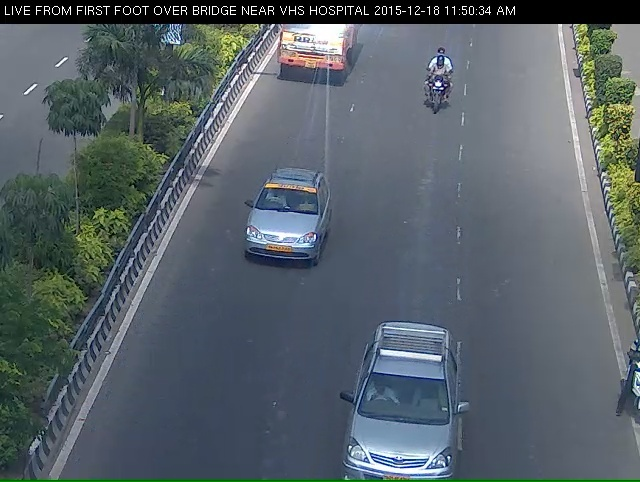Bus: (274, 23, 361, 91)
Car: (340, 351, 468, 479), (237, 195, 321, 292)
Person: (416, 55, 455, 122)
